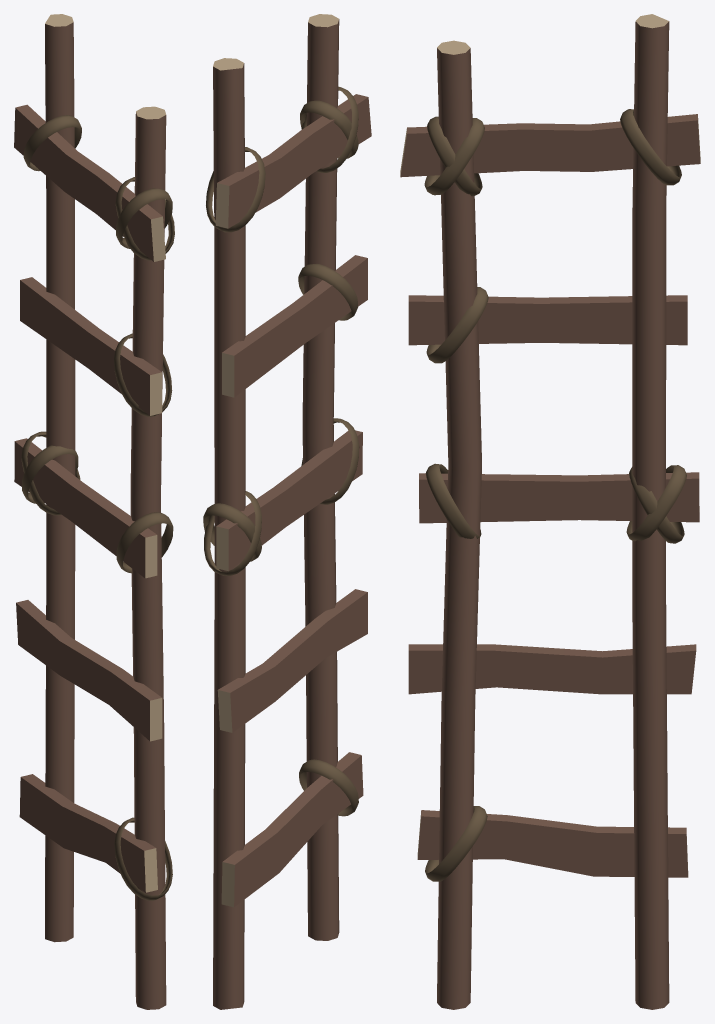
File: P_Ladder_01_LD.fbx
The picture shows the model from 3 angles, left to right: view 1: azimuth 30°, elevation 25°; view 2: azimuth 150°, elevation 25°; view 3: azimuth 270°, elevation 25°; orthographic projection. The views are drawn at different scales.
Visible parts, largest first — view 1: P_Ladder_01; view 2: P_Ladder_01; view 3: P_Ladder_01.
Boxes of the visible parts, x1,y1,x2,y2 form: P_Ladder_01: (14, 14, 174, 1009); P_Ladder_01: (203, 14, 371, 1009); P_Ladder_01: (400, 14, 700, 1009).
Size of the model in its own units: 21.29 by 367 by 102.
